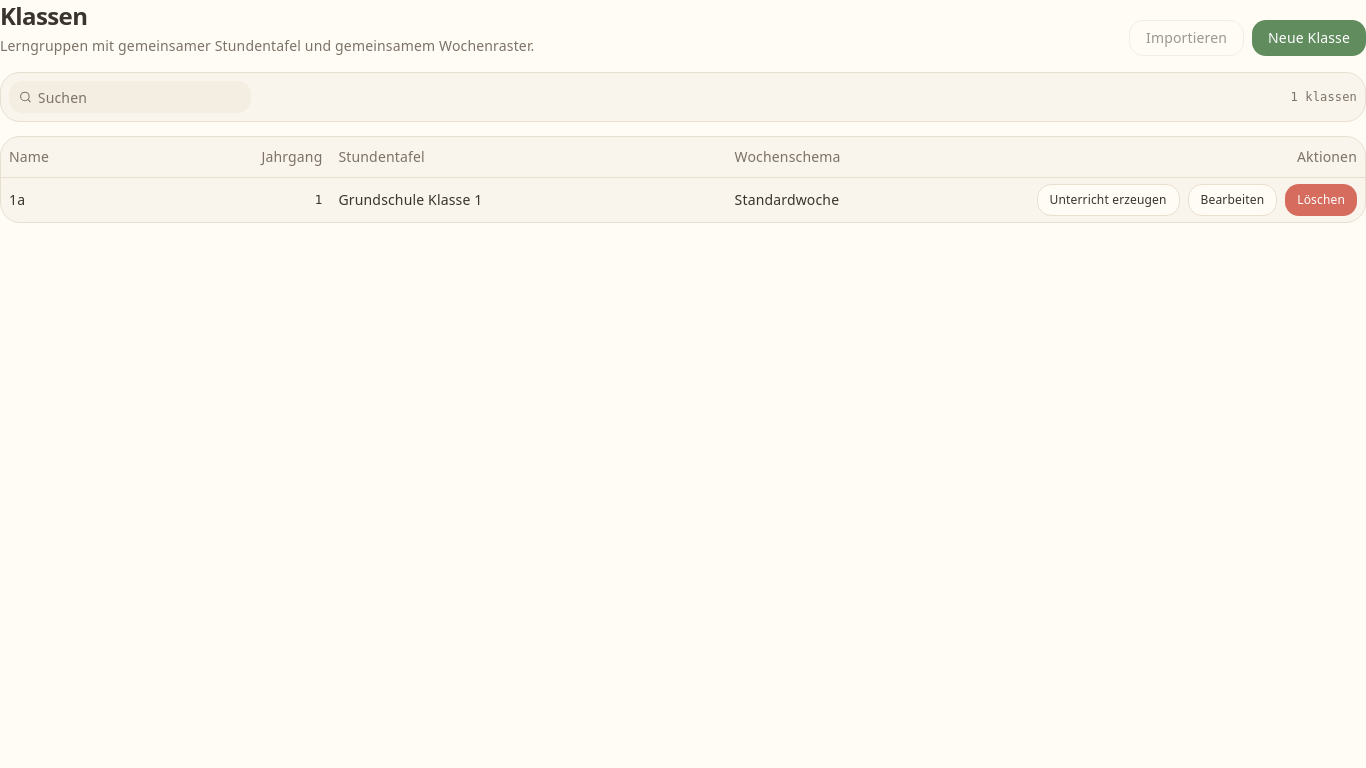
Test case: SchoolClassesPage Generate-lessons toast › shows an info toast when the backend generated no lessons
The width and height of the screenshot is (1366, 768).
expect the text "1a" is shown: met, box top-left (1, 177), bottom-right (140, 222)
Step 1. Click the button "Unterricht erzeugen" → [1108, 200], box top-left (1036, 184), bottom-right (1180, 216)
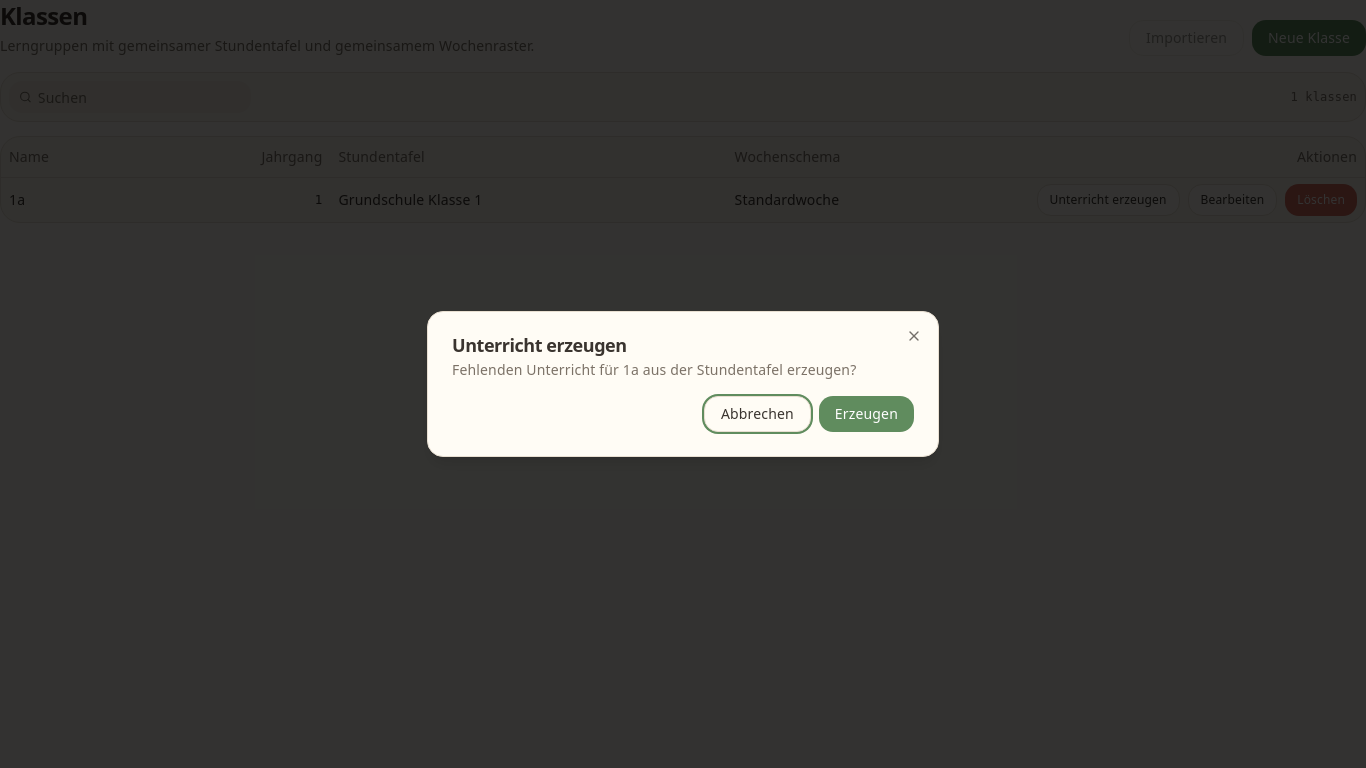
Step 2. Click the button "Erzeugen" → [866, 414], box top-left (819, 396), bottom-right (914, 432)
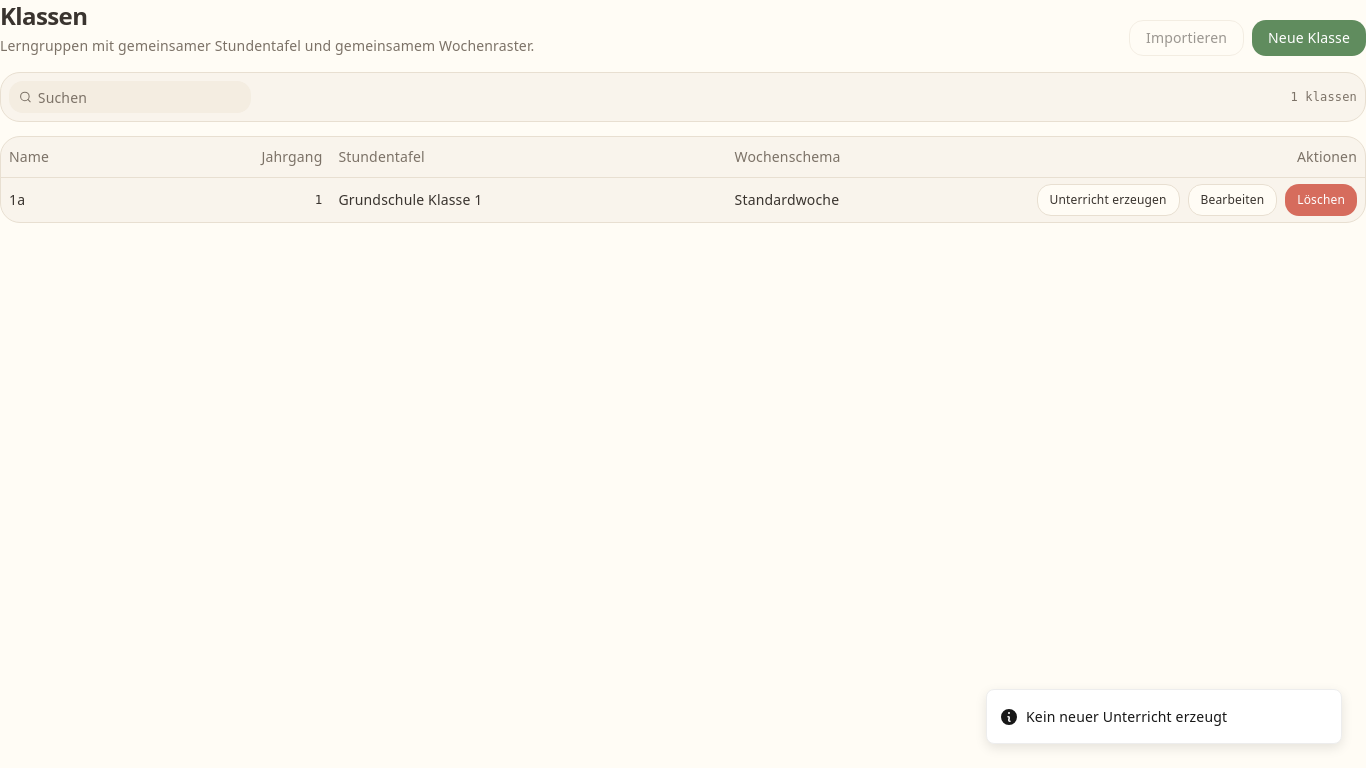
expect the text "Kein neuer Unterricht erzeugt" is shown: met, box top-left (1026, 706), bottom-right (1227, 727)
